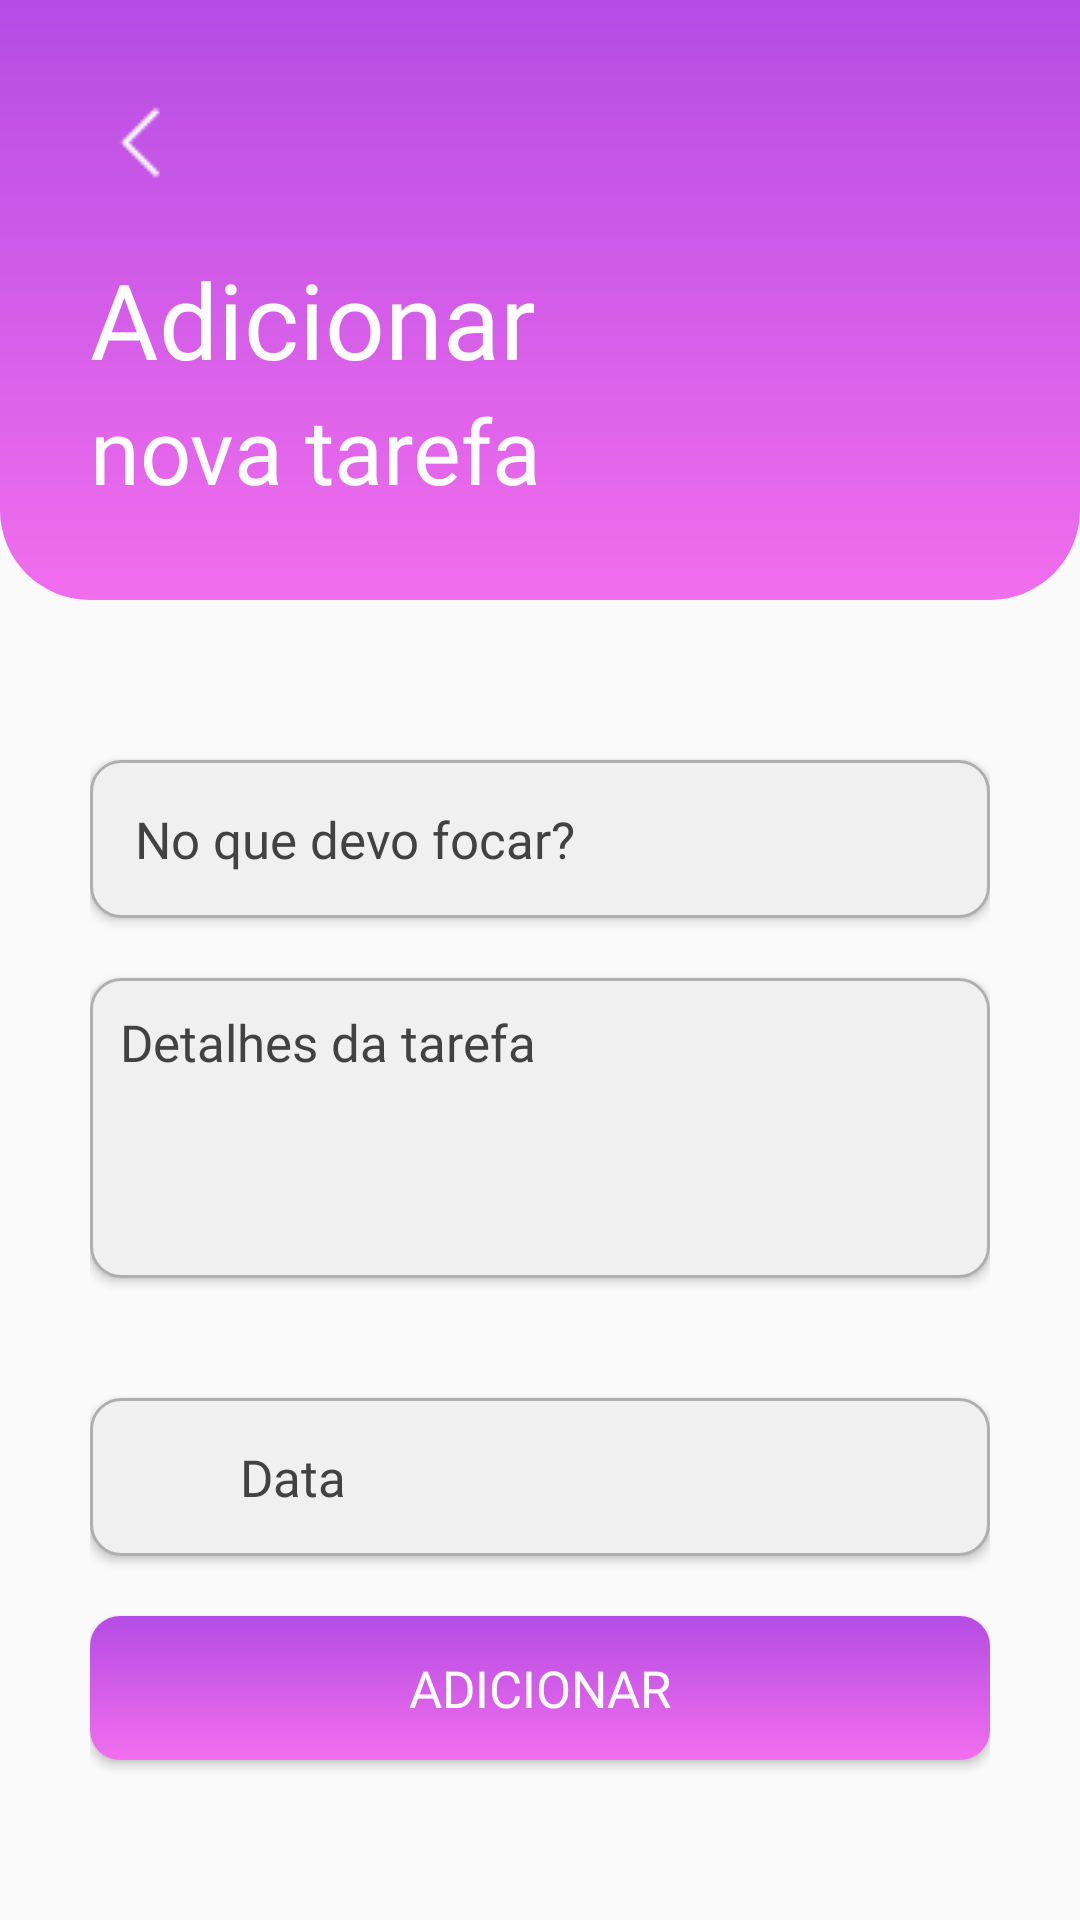

Icon bounding boxes for this 1080px x 1920px phone screenshot, format (x1, y1, x2, y2):
btnvoltar: (120, 107, 160, 178)
